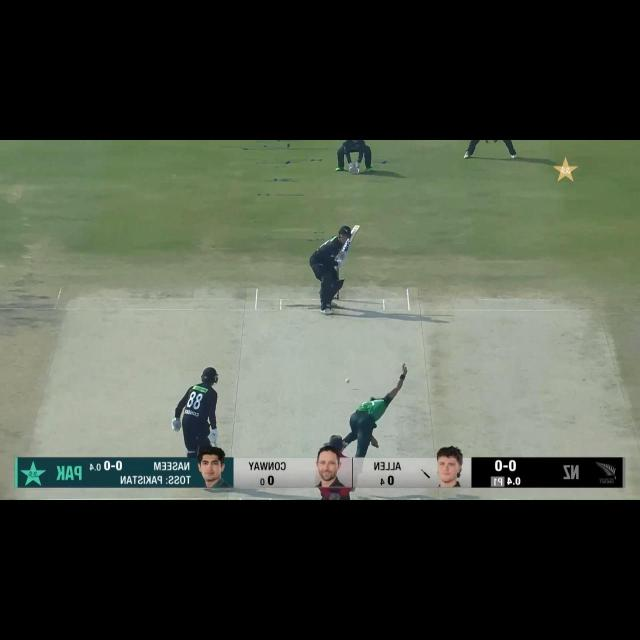bat: (341, 223, 361, 256)
toe: (351, 222, 361, 231)
